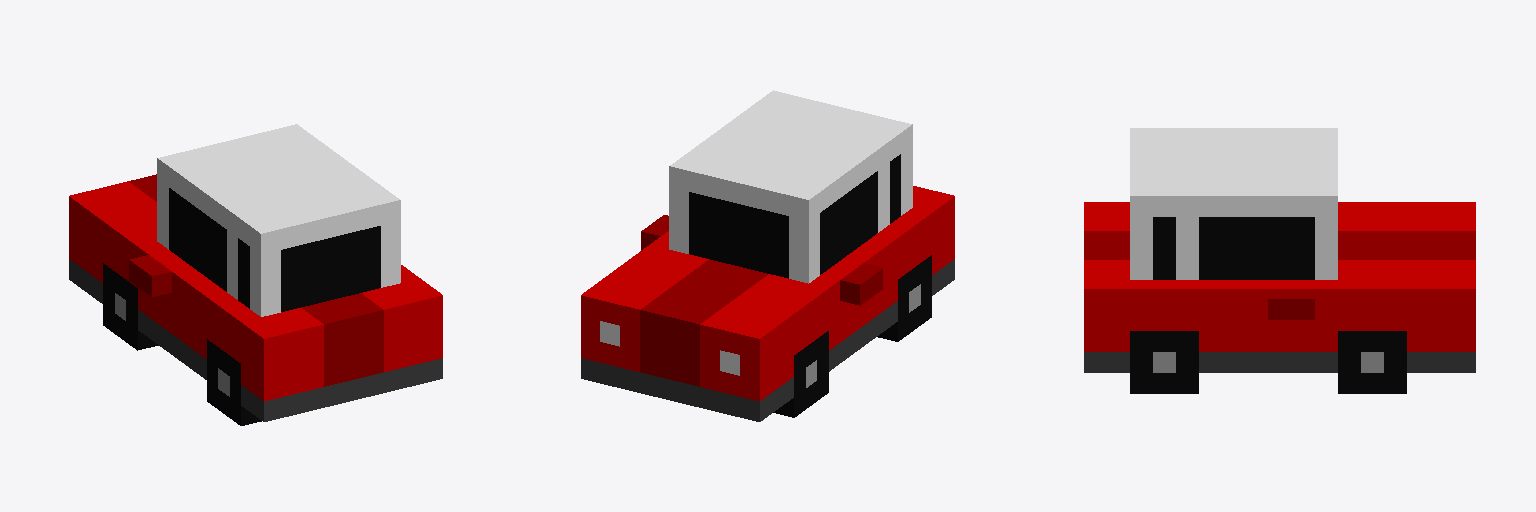
3 renders of one model, left to right at view 1: azimuth 30°, elevation 25°; view 2: azimuth 150°, elevation 25°; view 3: azimuth 270°, elevation 25°, orthographic.
Parts seen in each view (by area): view 1: car_short_1; view 2: car_short_1; view 3: car_short_1.
Boxes of the visible parts, <box> form: car_short_1: <box>69,124,442,425</box>; car_short_1: <box>581,90,954,421</box>; car_short_1: <box>1084,128,1475,393</box>.
Bounding box in the file's own units: 11 × 9 × 17.
Materials: 1 (1 with a texture image).